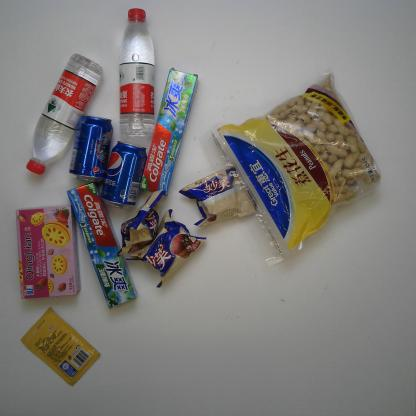Dessert: (124, 209, 208, 288), (15, 204, 81, 298), (178, 158, 264, 228), (118, 190, 164, 256)
Dried Food: (198, 67, 382, 274)
Drink: (26, 54, 103, 175), (118, 8, 156, 140), (100, 141, 147, 210), (69, 115, 114, 182)
Personal Hygiene: (68, 182, 138, 309), (140, 67, 198, 195)
Seasoner: (20, 306, 101, 387)
